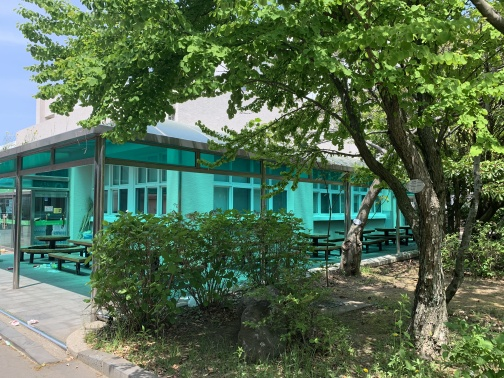Ara Hall: (1, 126, 441, 302)
